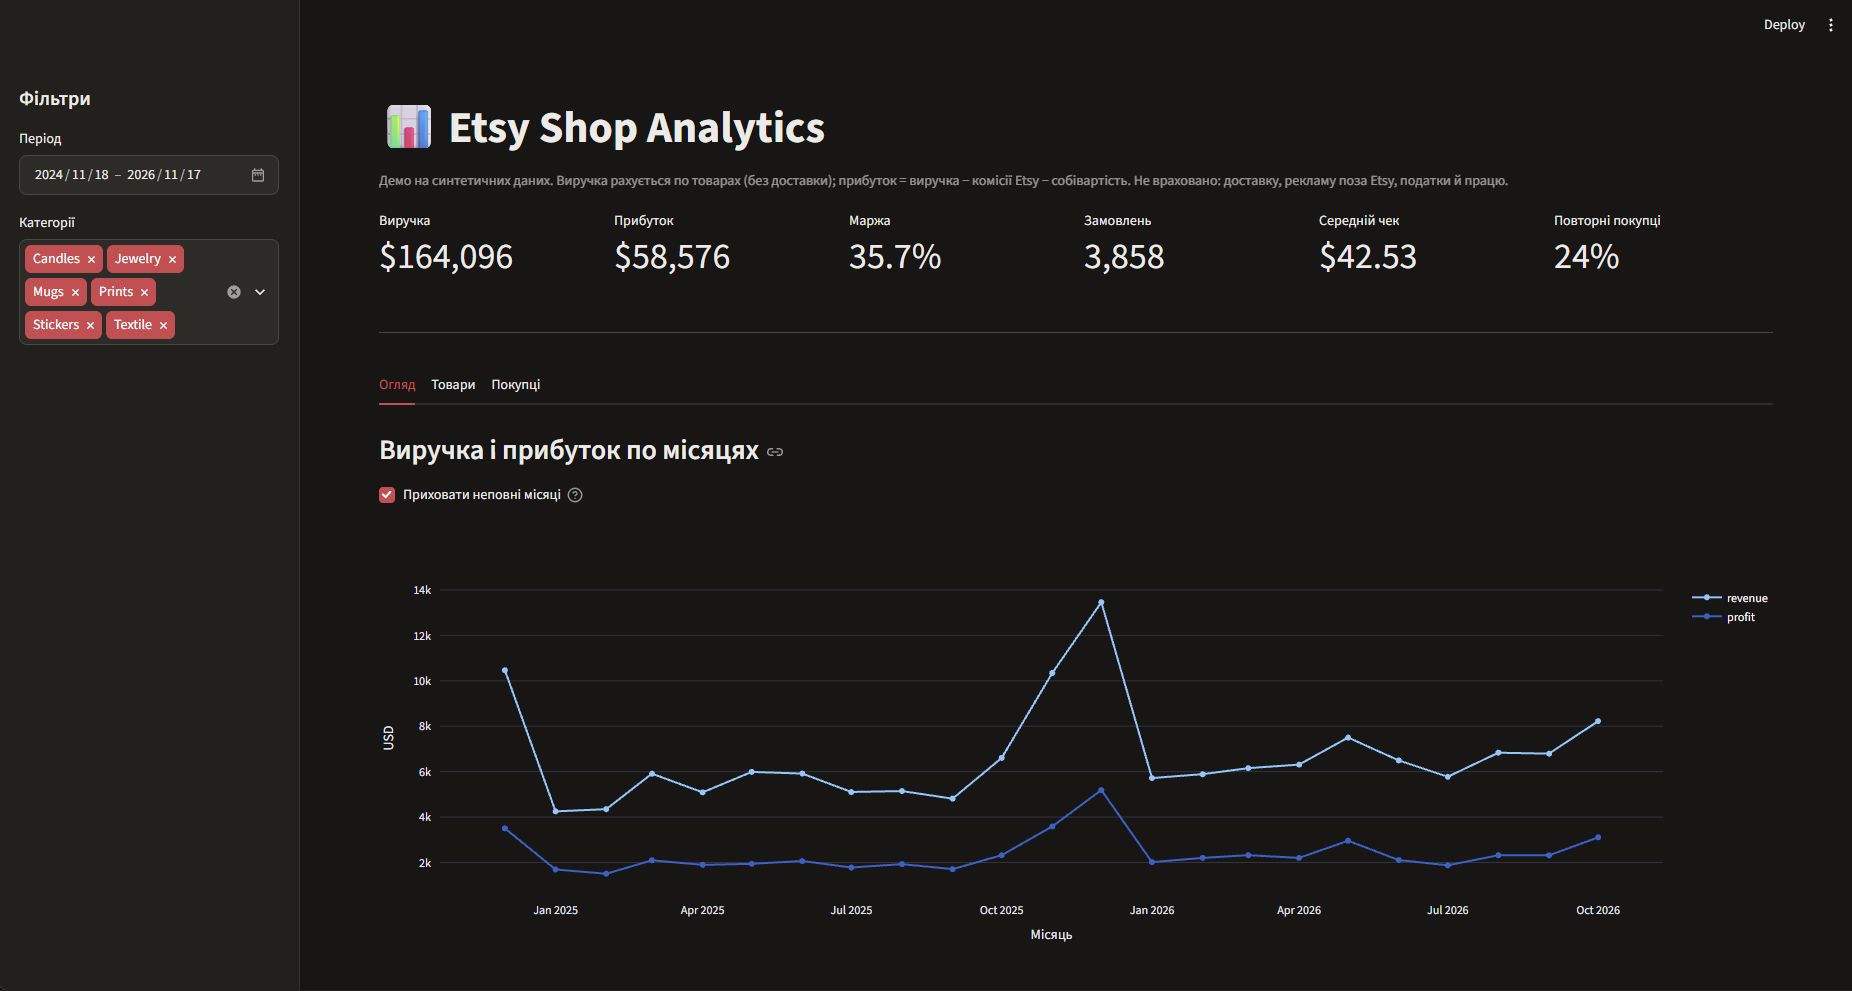

This screenshot's page, from the dashboard's own definition file:
{"tool":"powerbi","page":{"name":"Огляд","canvas":[1280,720],"ordinal":0},"visuals":[{"type":"cardVisual","fields":{"Data":["Calendar.Revenue","Calendar.Profit","Calendar.Margin %","Calendar.Orders","Calendar.Repeat Buyer %"]},"box":[24,76,1228,96],"z":0},{"type":"lineChart","title":"Виручка і прибуток по місяцях","fields":{"Category":["Calendar.MonthStart"],"Y":["Calendar.Revenue","Calendar.Profit"]},"box":[24,184,744,512],"z":1000},{"type":"textbox","title":"Виручка зростає, а прибуток визначає сезон: пік у листопаді-грудні","box":[24.3,16,780,44.3],"z":2000},{"type":"slicer","fields":{"Values":["Calendar.Date"]},"box":[820,20,210,40],"z":3000},{"type":"slicer","fields":{"Values":["Facts.category"]},"box":[1046,20,210,40],"z":4000},{"type":"clusteredColumnChart","title":"Категорії: виручка проти прибутку","fields":{"Category":["Facts.category"],"Y":["Calendar.Profit","Calendar.Revenue"]},"box":[768,184,484,512],"z":5000}]}

Visuals, with their boxes on the page's 1280x720 design canvas (x1, y1, x2, y2). These are canvas units, not pixel positions in the 1852x991 screenshot, which may show the page scaled, cropped or inside an application window:
cardVisual - Calendar.Revenue x Calendar.Profit: [x1=24, y1=76, x2=1252, y2=172]
"Виручка і прибуток по місяцях" lineChart: [x1=24, y1=184, x2=768, y2=696]
"Виручка зростає, а прибуток визначає сезон: пік у листопаді-грудні" textbox: [x1=24, y1=16, x2=804, y2=60]
slicer - Calendar.Date: [x1=820, y1=20, x2=1030, y2=60]
slicer - Facts.category: [x1=1046, y1=20, x2=1256, y2=60]
"Категорії: виручка проти прибутку" clusteredColumnChart: [x1=768, y1=184, x2=1252, y2=696]
